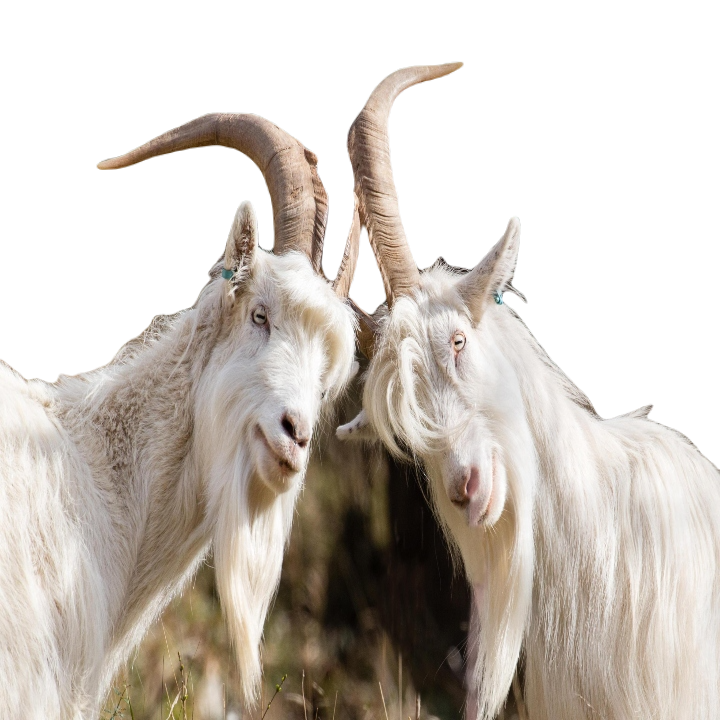Goat: (346, 60, 719, 718), (2, 110, 338, 719)
